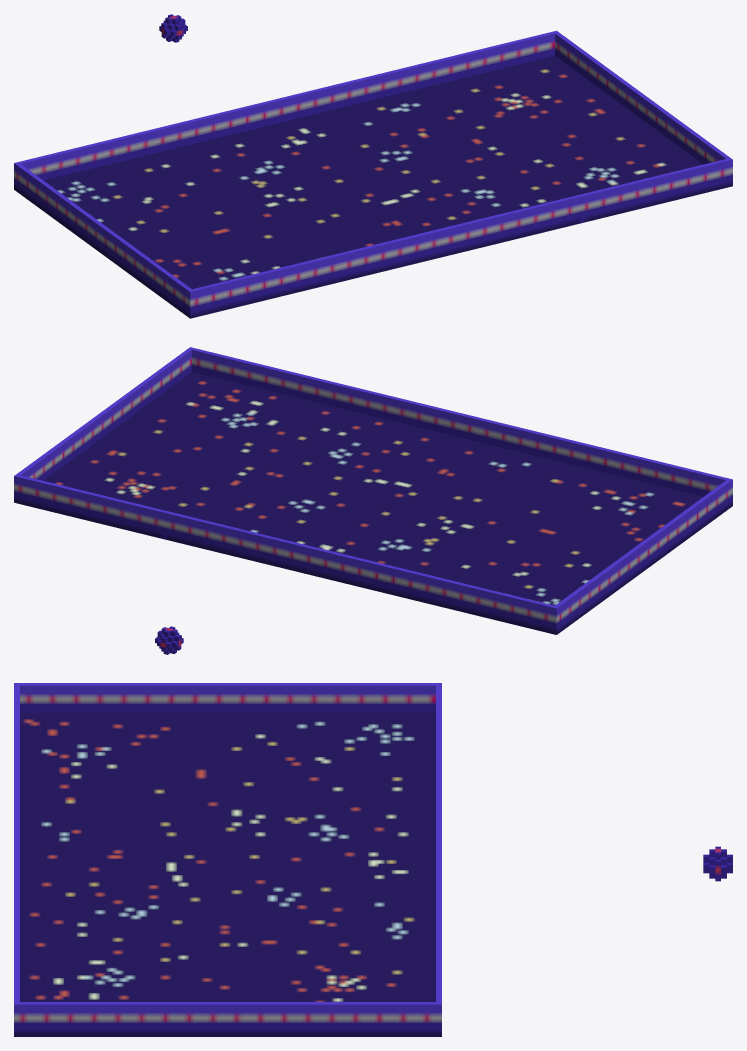
Rendered from ball and space map.dae.
The picture shows the model from 3 angles, top to bottom: view 1: azimuth 30°, elevation 25°; view 2: azimuth 150°, elevation 25°; view 3: azimuth 270°, elevation 25°; orthographic projection. The views are drawn at different scales.
Parts seen in each view (by area): view 1: BACKGROUND_1, Sphere; view 2: BACKGROUND_1, Sphere; view 3: BACKGROUND_1, Sphere.
Part boxes in pixels (left/top/right/bottom): BACKGROUND_1: left=14, top=30, right=732, bottom=318; Sphere: left=159, top=14, right=187, bottom=42; BACKGROUND_1: left=14, top=347, right=732, bottom=634; Sphere: left=155, top=626, right=183, bottom=654; BACKGROUND_1: left=14, top=683, right=441, bottom=1036; Sphere: left=703, top=846, right=732, bottom=881.
Bounding box in the file's own units: 128 × 6 × 121.
